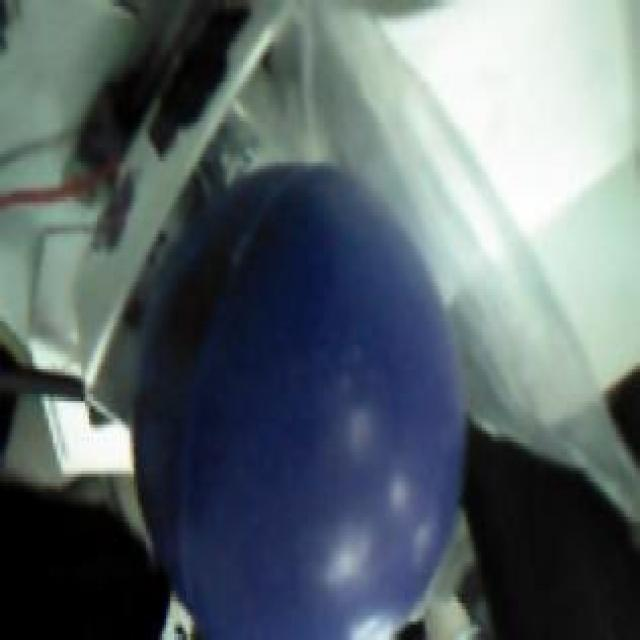BallPurple: (131, 162, 465, 640)
